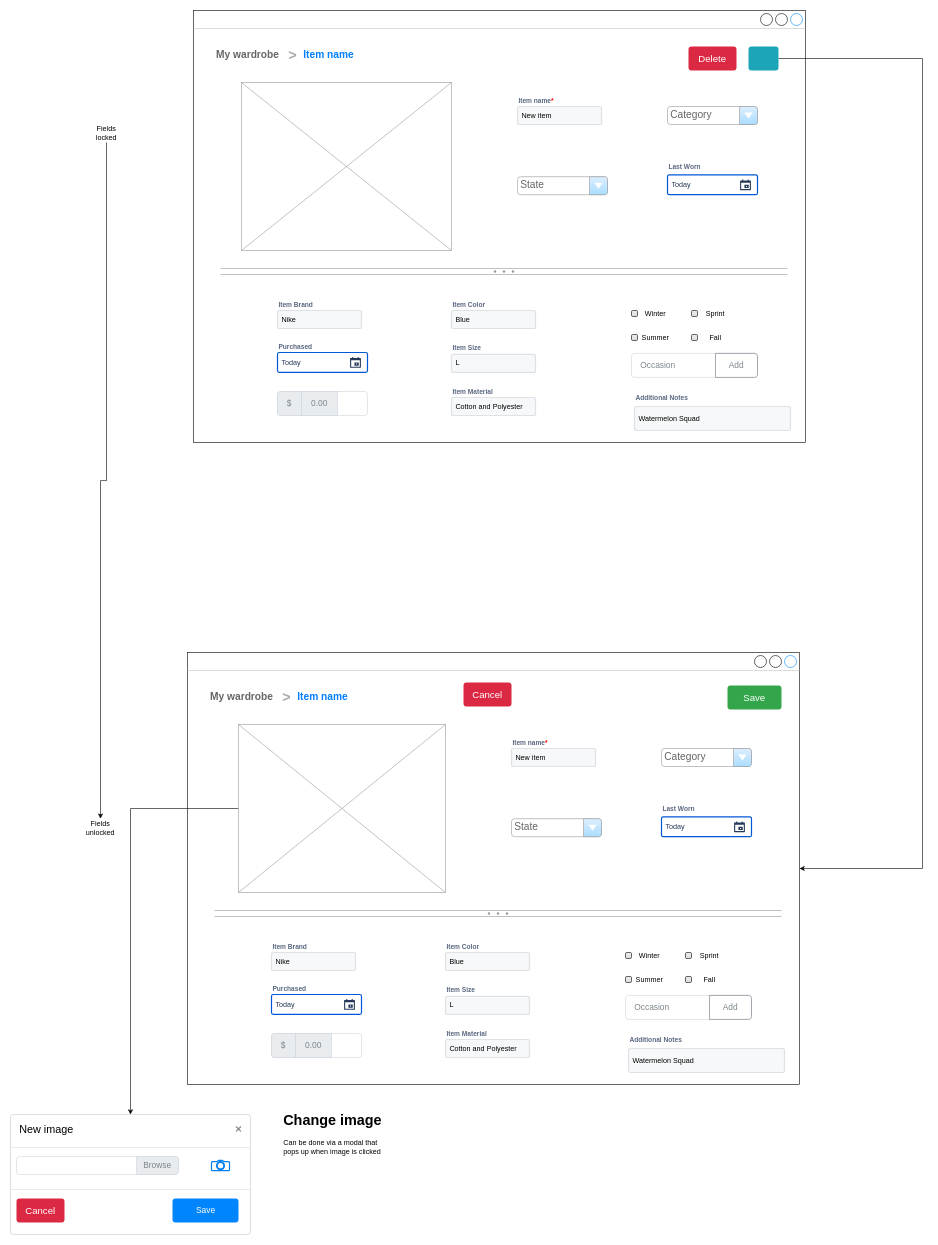
Image size: 938x1245. Some labels were removed from this diagram. The shapes that lost their labels are listed below. From the top down, each one's centre as x and y in pixels, then its label:
[763,58]: Edit
[97,1165]: Choose file
